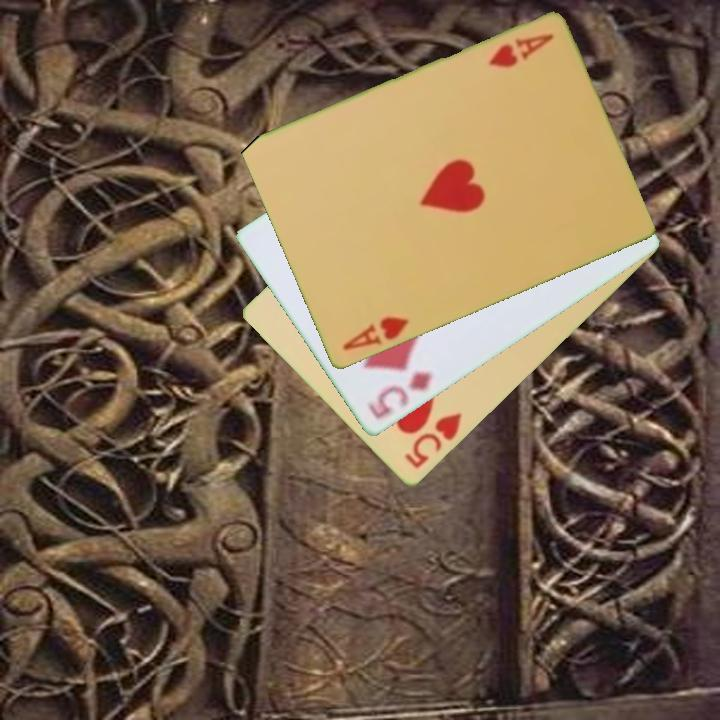5d: (363, 368, 435, 423)
5h: (400, 410, 466, 472)
Ah: (339, 313, 412, 354), (485, 30, 556, 72)
